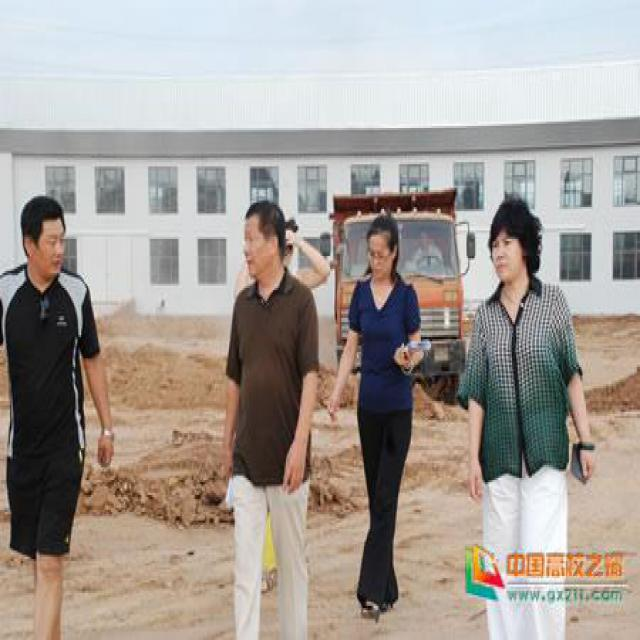head: (15, 189, 71, 283), (482, 195, 540, 285), (237, 193, 287, 285), (362, 210, 402, 285)
person: (450, 179, 614, 630), (210, 193, 330, 639), (317, 203, 432, 635), (10, 192, 123, 629)
